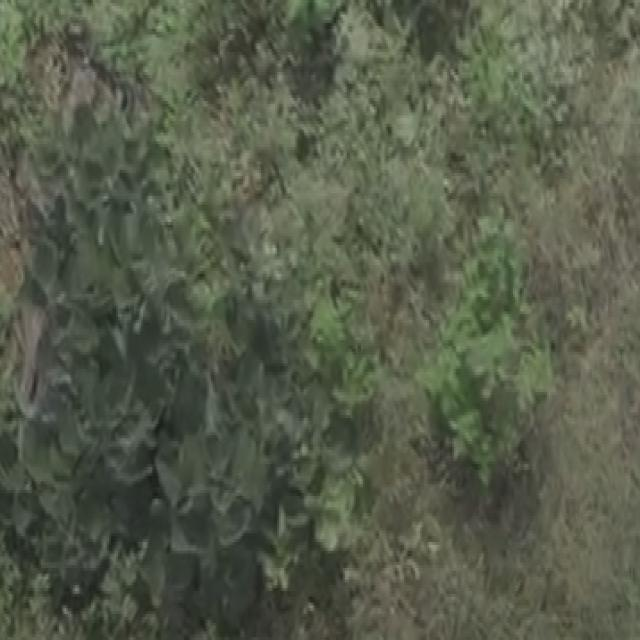notMangoTree: (0, 75, 365, 637), (413, 221, 562, 510)
